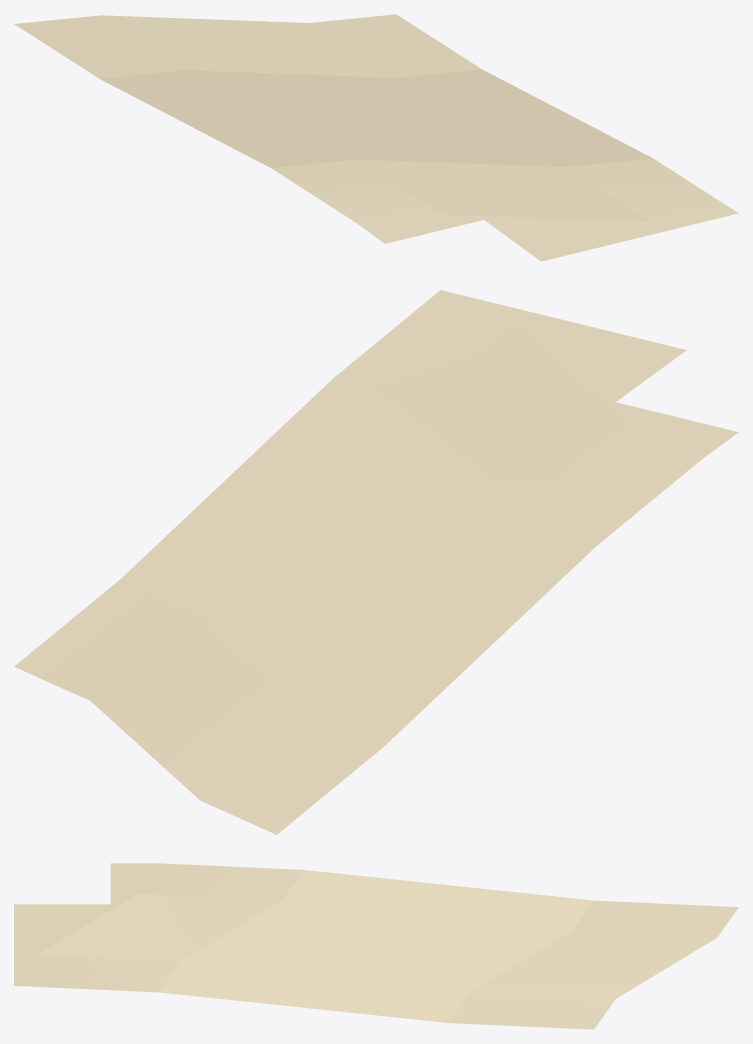
Rendered from Beach_Terrain_Sand_Side_Shift_Gentle.glb.
3 views of the same model, one above another, from view 1: azimuth 30°, elevation 25°; view 2: azimuth 150°, elevation 25°; view 3: azimuth 270°, elevation 25° (orthographic). The views are drawn at different scales.
Visible parts, largest first — view 1: Beach_Terrain_Sand_Side_Shift_Gentle; view 2: Beach_Terrain_Sand_Side_Shift_Gentle; view 3: Beach_Terrain_Sand_Side_Shift_Gentle.
Part boxes in pixels (<box>): Beach_Terrain_Sand_Side_Shift_Gentle: <box>14,14,738,261</box>; Beach_Terrain_Sand_Side_Shift_Gentle: <box>14,290,738,834</box>; Beach_Terrain_Sand_Side_Shift_Gentle: <box>14,863,738,1029</box>.
Size of the model in its own units: 3 by 0.5 by 7.5.
